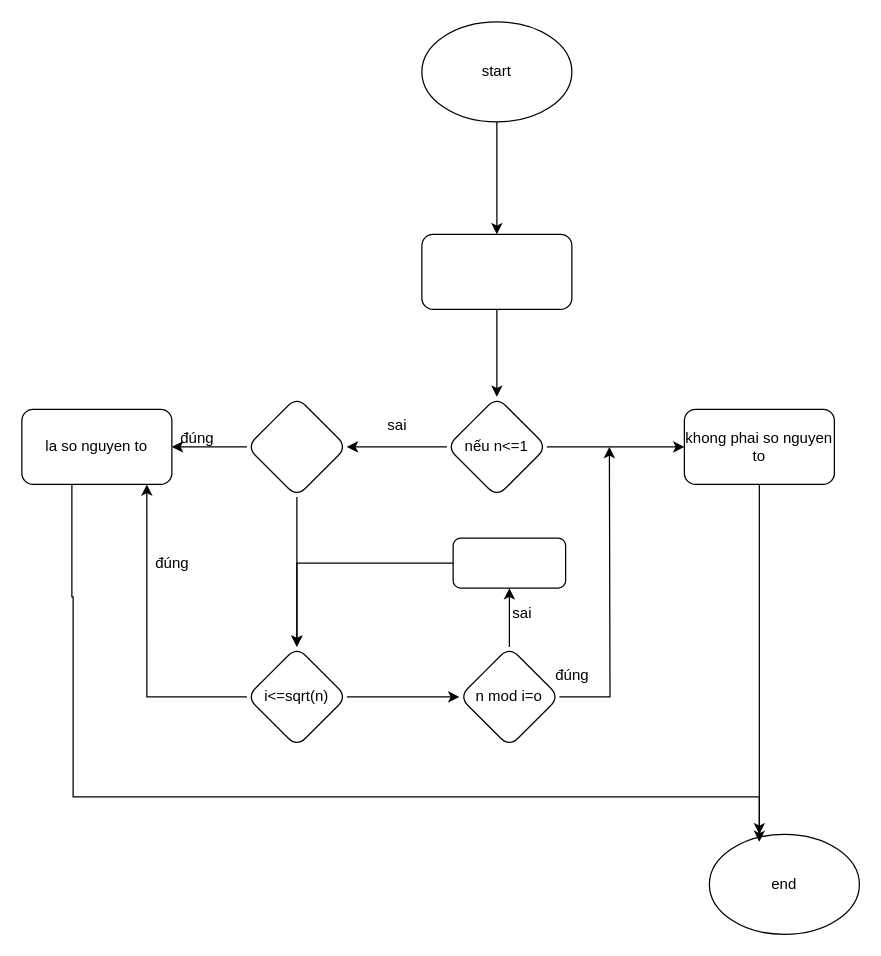
The diagram is 881 pixels wide and 956 high, and some of its shapes have lost their labels. Here are the shapes that lost their labels. From the top down, the centre of each, then its label:
At point 496,271: "nhap n".
At point 296,446: "n=2".
At point 509,562: "i=++".
